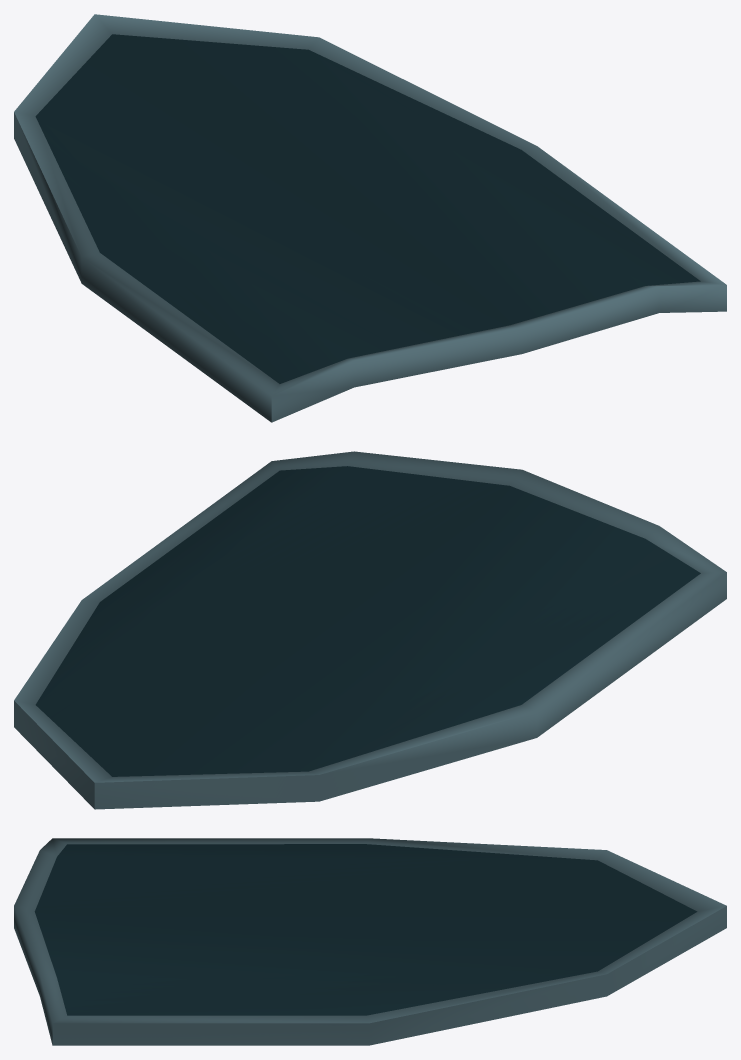
The model's file is obj_shield_LOW.FBX.
The picture shows the model from 3 angles, top to bottom: view 1: azimuth 30°, elevation 25°; view 2: azimuth 150°, elevation 25°; view 3: azimuth 270°, elevation 25°; orthographic projection. The views are drawn at different scales.
Visible parts, largest first — view 1: obj_shield_LOW; view 2: obj_shield_LOW; view 3: obj_shield_LOW.
Boxes of the visible parts, left/top/right/bottom form: obj_shield_LOW: left=14, top=14, right=726, bottom=422; obj_shield_LOW: left=14, top=451, right=726, bottom=809; obj_shield_LOW: left=14, top=838, right=726, bottom=1045.
Bounding box in the file's own units: 1.39 × 0.2249 × 2.26.
